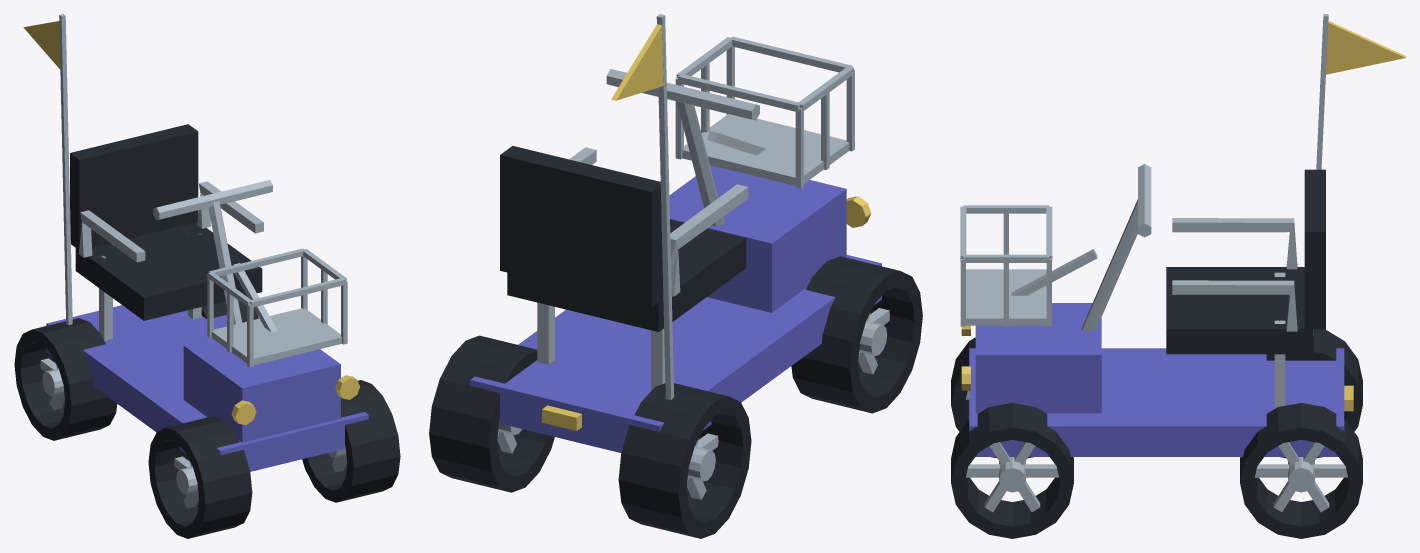
The model's file is mobility-scooter.glb.
The picture shows the model from 3 angles, left to right: view 1: azimuth 30°, elevation 25°; view 2: azimuth 150°, elevation 25°; view 3: azimuth 270°, elevation 25°; orthographic projection. The views are drawn at different scales.
Parts seen in each view (by area): view 1: bike_body, fork_mesh, wheel_front_r, wheel_rear_r, wheel_front_l, wheel_rear_l; view 2: bike_body, fork_mesh, wheel_rear_r, wheel_front_r, wheel_rear_l; view 3: bike_body, wheel_front_l, wheel_rear_l, fork_mesh, wheel_rear_r, wheel_front_r.
Boxes of the visible parts, <box> form: bike_body: <box>23,14,368,471</box>; fork_mesh: <box>153,180,347,367</box>; wheel_front_r: <box>148,416,252,538</box>; wheel_rear_r: <box>14,318,117,440</box>; wheel_front_l: <box>302,380,400,502</box>; wheel_rear_l: <box>201,296,258,322</box>; bike_body: <box>470,14,881,452</box>; fork_mesh: <box>606,36,854,226</box>; wheel_rear_r: <box>618,383,751,538</box>; wheel_front_r: <box>791,256,922,413</box>; wheel_rear_l: <box>429,335,554,492</box>; bike_body: <box>961,14,1405,456</box>; wheel_front_l: <box>951,403,1073,538</box>; wheel_rear_l: <box>1240,403,1362,538</box>; fork_mesh: <box>960,164,1151,331</box>; wheel_rear_r: <box>1266,329,1362,458</box>; wheel_front_r: <box>951,337,1033,458</box>.
Bounding box in the file's own units: 0.79 × 1.57 × 1.48.
